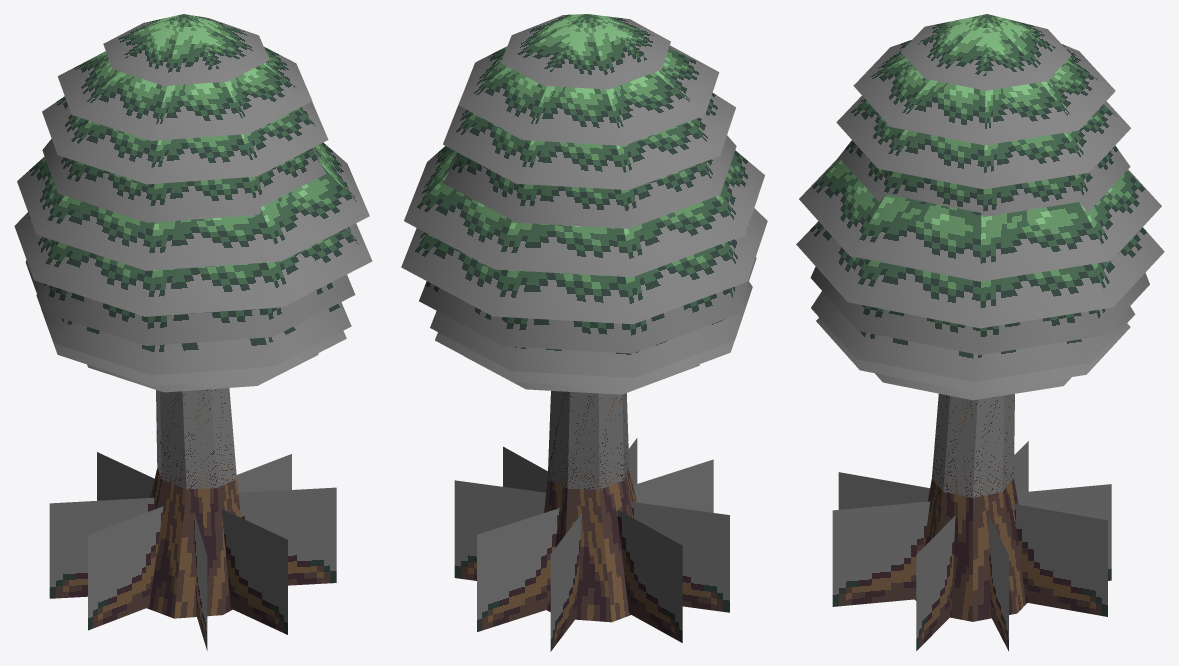
Rendered from tree_3d_2.glb.
3 views of the same model, side by side, from view 1: azimuth 30°, elevation 25°; view 2: azimuth 150°, elevation 25°; view 3: azimuth 270°, elevation 25° (orthographic). The views are drawn at different scales.
Parts seen in each view (by area): view 1: Cube.001; view 2: Cube.001; view 3: Cube.001.
Boxes of the visible parts, x1,y1,x2,y2 form: Cube.001: (14, 14, 372, 650); Cube.001: (401, 14, 767, 651); Cube.001: (796, 14, 1164, 651).
Size of the model in its own units: 2.21 by 3.84 by 2.21.
Materials: 1 (1 with a texture image).
